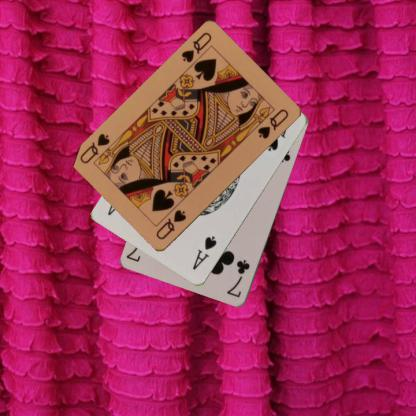7c: (224, 257, 252, 299)
As: (190, 234, 218, 272)
Qs: (153, 208, 188, 242), (179, 30, 213, 64)
